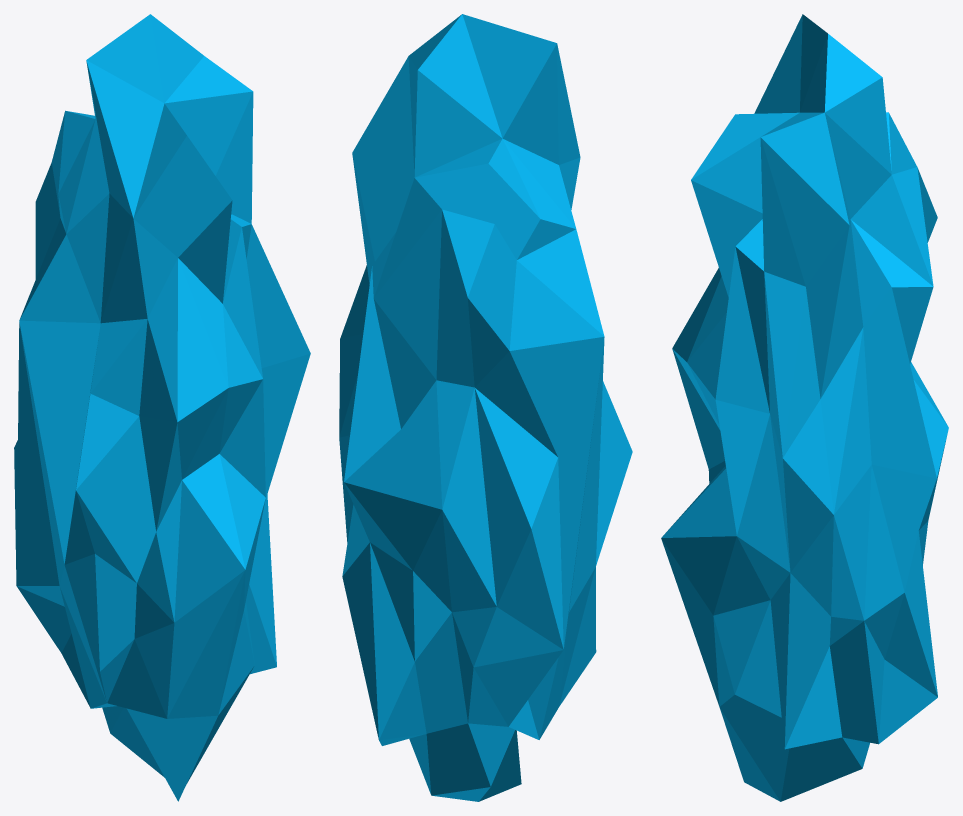
Rendered from Crystal_005.fbx.
3 renders of one model, left to right at view 1: azimuth 30°, elevation 25°; view 2: azimuth 150°, elevation 25°; view 3: azimuth 270°, elevation 25°, orthographic. The views are drawn at different scales.
Parts seen in each view (by area): view 1: Crystal.005; view 2: Crystal.005; view 3: Crystal.005.
Part boxes in pixels (<box>): Crystal.005: <box>14,14,310,801</box>; Crystal.005: <box>339,14,632,801</box>; Crystal.005: <box>661,14,948,801</box>.
Bounding box in the file's own units: 228 × 613 × 209.
